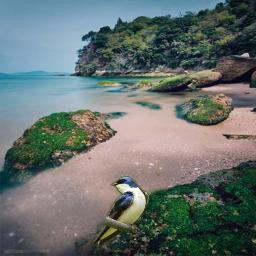Swallow: (91, 176, 149, 248)
